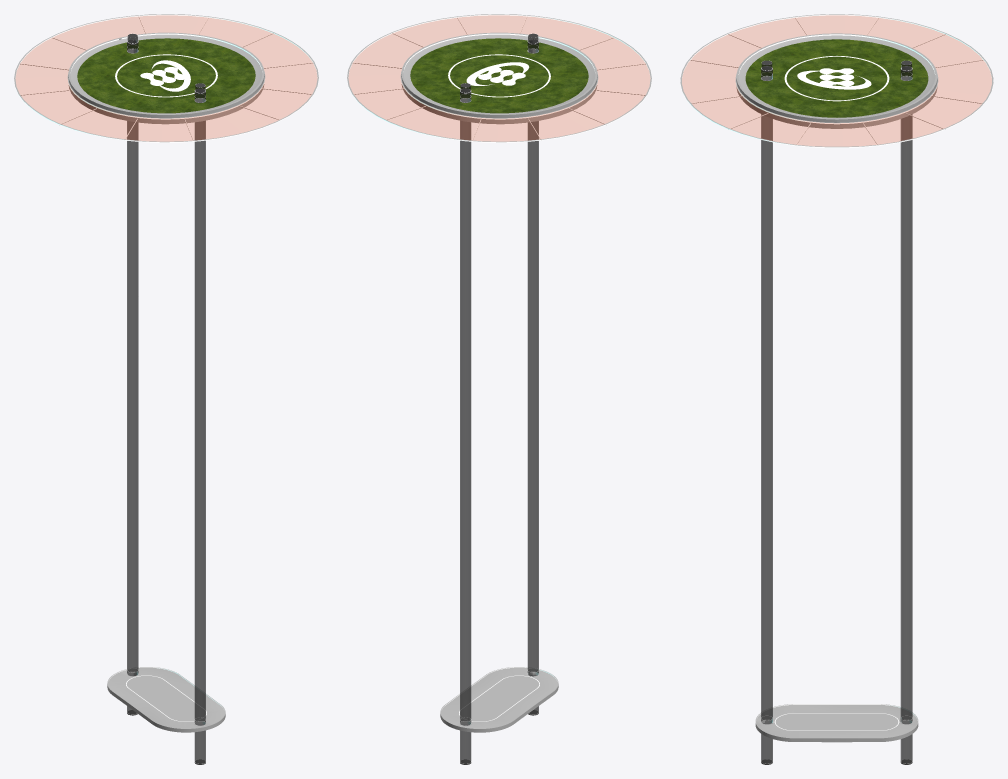
The model's file is Helipad+ascenseur.fbx.
3 renders of one model, left to right at view 1: azimuth 30°, elevation 25°; view 2: azimuth 150°, elevation 25°; view 3: azimuth 270°, elevation 25°, orthographic. The views are drawn at different scales.
Parts seen in each view (by area): view 1: Object2, Cylinder.076, Cylinder.072, Object2.005; view 2: Object2, Cylinder.072, Cylinder.076, Object2.005; view 3: Object2, Cylinder.072, Cylinder.076, Object2.005.
Boxes of the visible parts, x1,y1,x2,y2 form: Object2: (14, 14, 318, 142); Cylinder.076: (194, 90, 205, 764); Cylinder.072: (127, 40, 138, 715); Object2.005: (107, 667, 225, 732); Object2: (347, 14, 651, 142); Cylinder.072: (460, 90, 471, 764); Cylinder.076: (527, 40, 538, 715); Object2.005: (440, 667, 558, 732); Object2: (680, 14, 993, 147); Cylinder.072: (900, 67, 912, 764); Cylinder.076: (761, 67, 772, 764); Object2.005: (755, 704, 918, 742).
Bounding box in the file's own units: 10823 × 26478 × 10739.
